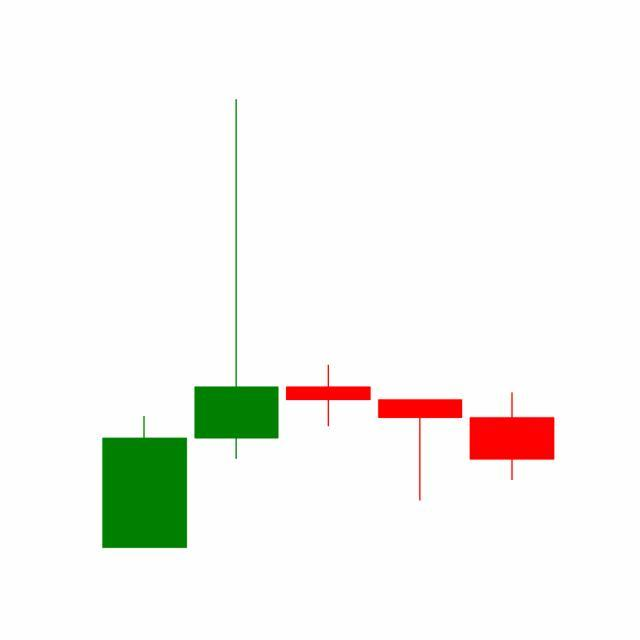Hammer: (374, 399, 468, 504)
